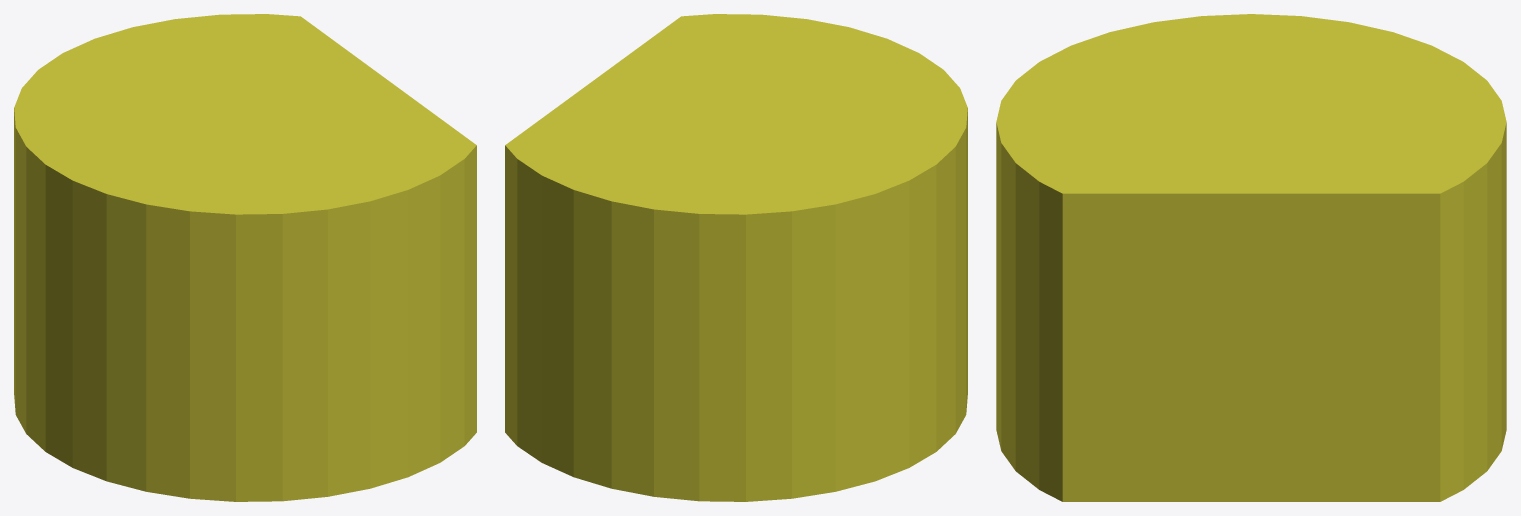
File: robot_marker_yellow.dae
3 views of the same model, side by side, from view 1: azimuth 30°, elevation 25°; view 2: azimuth 150°, elevation 25°; view 3: azimuth 270°, elevation 25° (orthographic). The views are drawn at different scales.
Visible parts, largest first — view 1: Cylinder; view 2: Cylinder; view 3: Cylinder.
Part boxes in pixels (<box>): Cylinder: <box>14,14,476,501</box>; Cylinder: <box>505,14,967,501</box>; Cylinder: <box>996,14,1506,501</box>.
Size of the model in its own units: 0.25 by 0.3 by 0.2.
